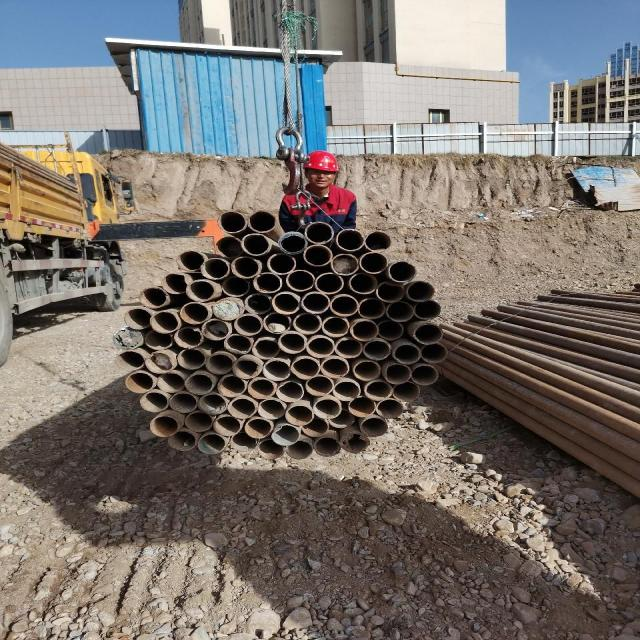pipe: (202, 351, 236, 377), (229, 256, 265, 280), (270, 289, 303, 315), (209, 297, 244, 321), (333, 227, 367, 251), (148, 310, 182, 334), (110, 326, 144, 350), (182, 371, 216, 395), (224, 396, 258, 420), (239, 232, 272, 256), (312, 270, 345, 294), (265, 251, 298, 275), (298, 290, 331, 314), (178, 300, 211, 324), (174, 346, 207, 370), (230, 355, 263, 379), (259, 358, 292, 382), (154, 370, 187, 394), (215, 374, 248, 398), (373, 396, 406, 420), (147, 414, 180, 438), (210, 414, 243, 438), (246, 376, 280, 399), (303, 220, 335, 244), (361, 229, 393, 253), (358, 251, 390, 275), (199, 256, 231, 280), (327, 292, 359, 316), (142, 349, 174, 373), (289, 356, 321, 380), (329, 378, 361, 402), (254, 397, 286, 421), (242, 416, 274, 440), (338, 431, 370, 455), (172, 326, 205, 349), (122, 371, 155, 394), (214, 235, 244, 260), (276, 231, 307, 255), (303, 243, 334, 267), (184, 278, 215, 302), (232, 313, 263, 337), (390, 341, 421, 365), (361, 338, 392, 362), (304, 335, 335, 359), (276, 330, 307, 354), (250, 336, 281, 360), (408, 362, 439, 386), (273, 379, 304, 403), (389, 379, 420, 403), (197, 392, 228, 416), (311, 396, 342, 420), (215, 210, 247, 233), (246, 210, 278, 233), (251, 271, 283, 294), (319, 315, 351, 338), (199, 318, 231, 341), (332, 336, 364, 359), (302, 374, 334, 397), (121, 307, 154, 329), (113, 349, 146, 371), (317, 356, 350, 378), (346, 395, 379, 417), (166, 430, 199, 452), (330, 252, 360, 276), (375, 280, 405, 304), (137, 285, 167, 309), (349, 318, 379, 342), (418, 340, 448, 364), (363, 378, 393, 402), (255, 437, 285, 461), (284, 269, 315, 292), (167, 391, 198, 414), (386, 260, 418, 282), (175, 250, 207, 272), (386, 301, 418, 323), (261, 312, 293, 334), (142, 329, 174, 351), (270, 424, 302, 446), (298, 415, 330, 437), (284, 439, 316, 461), (384, 361, 413, 385), (244, 292, 274, 315), (405, 280, 436, 302), (220, 276, 251, 298), (411, 322, 442, 344), (291, 312, 322, 334), (222, 332, 253, 354), (351, 360, 382, 382), (138, 390, 169, 412), (196, 432, 227, 454), (346, 272, 376, 294), (160, 272, 190, 294), (284, 404, 314, 426), (183, 410, 213, 432), (358, 416, 388, 438), (356, 298, 385, 320), (312, 435, 341, 457), (325, 408, 356, 428), (228, 432, 259, 452), (413, 298, 441, 320), (376, 320, 404, 342)
